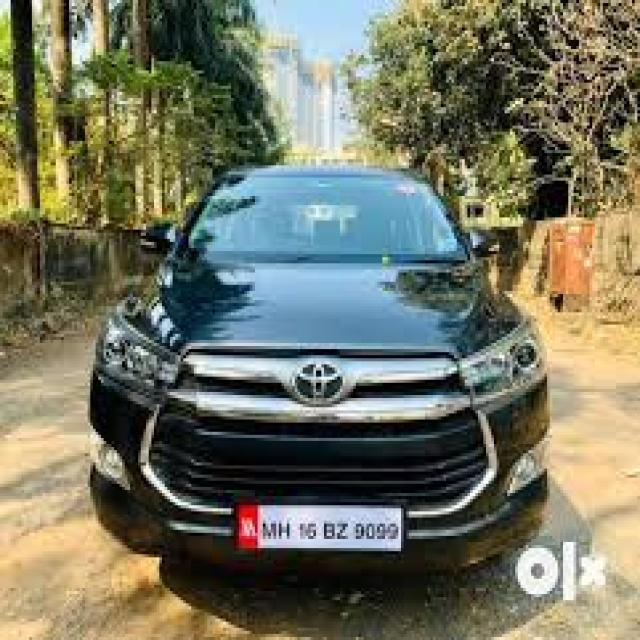light_vehicle: (88, 167, 550, 569)
